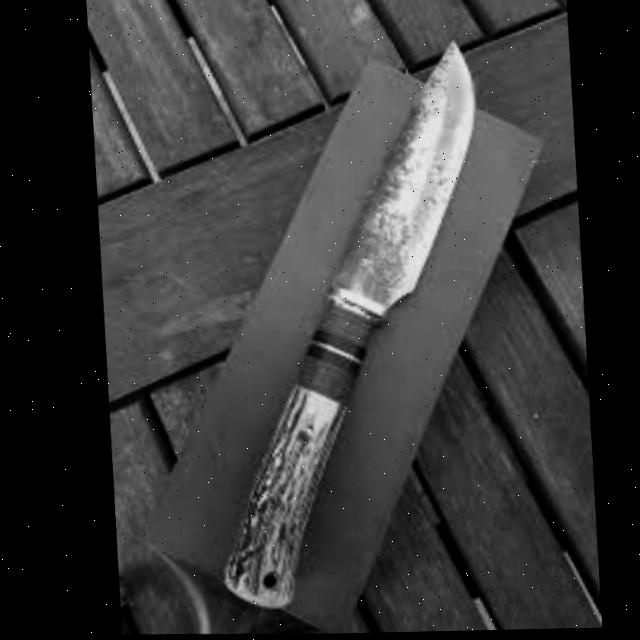Knife: (179, 34, 503, 614)
